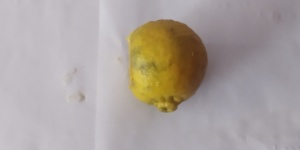BAD: (126, 18, 207, 115)
